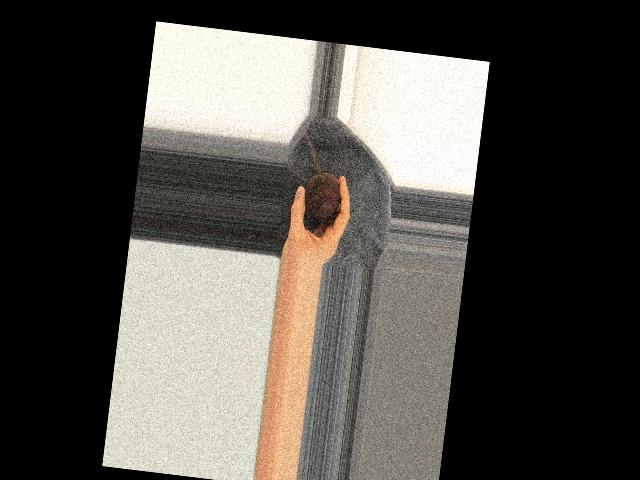beet: (301, 171, 343, 220)
